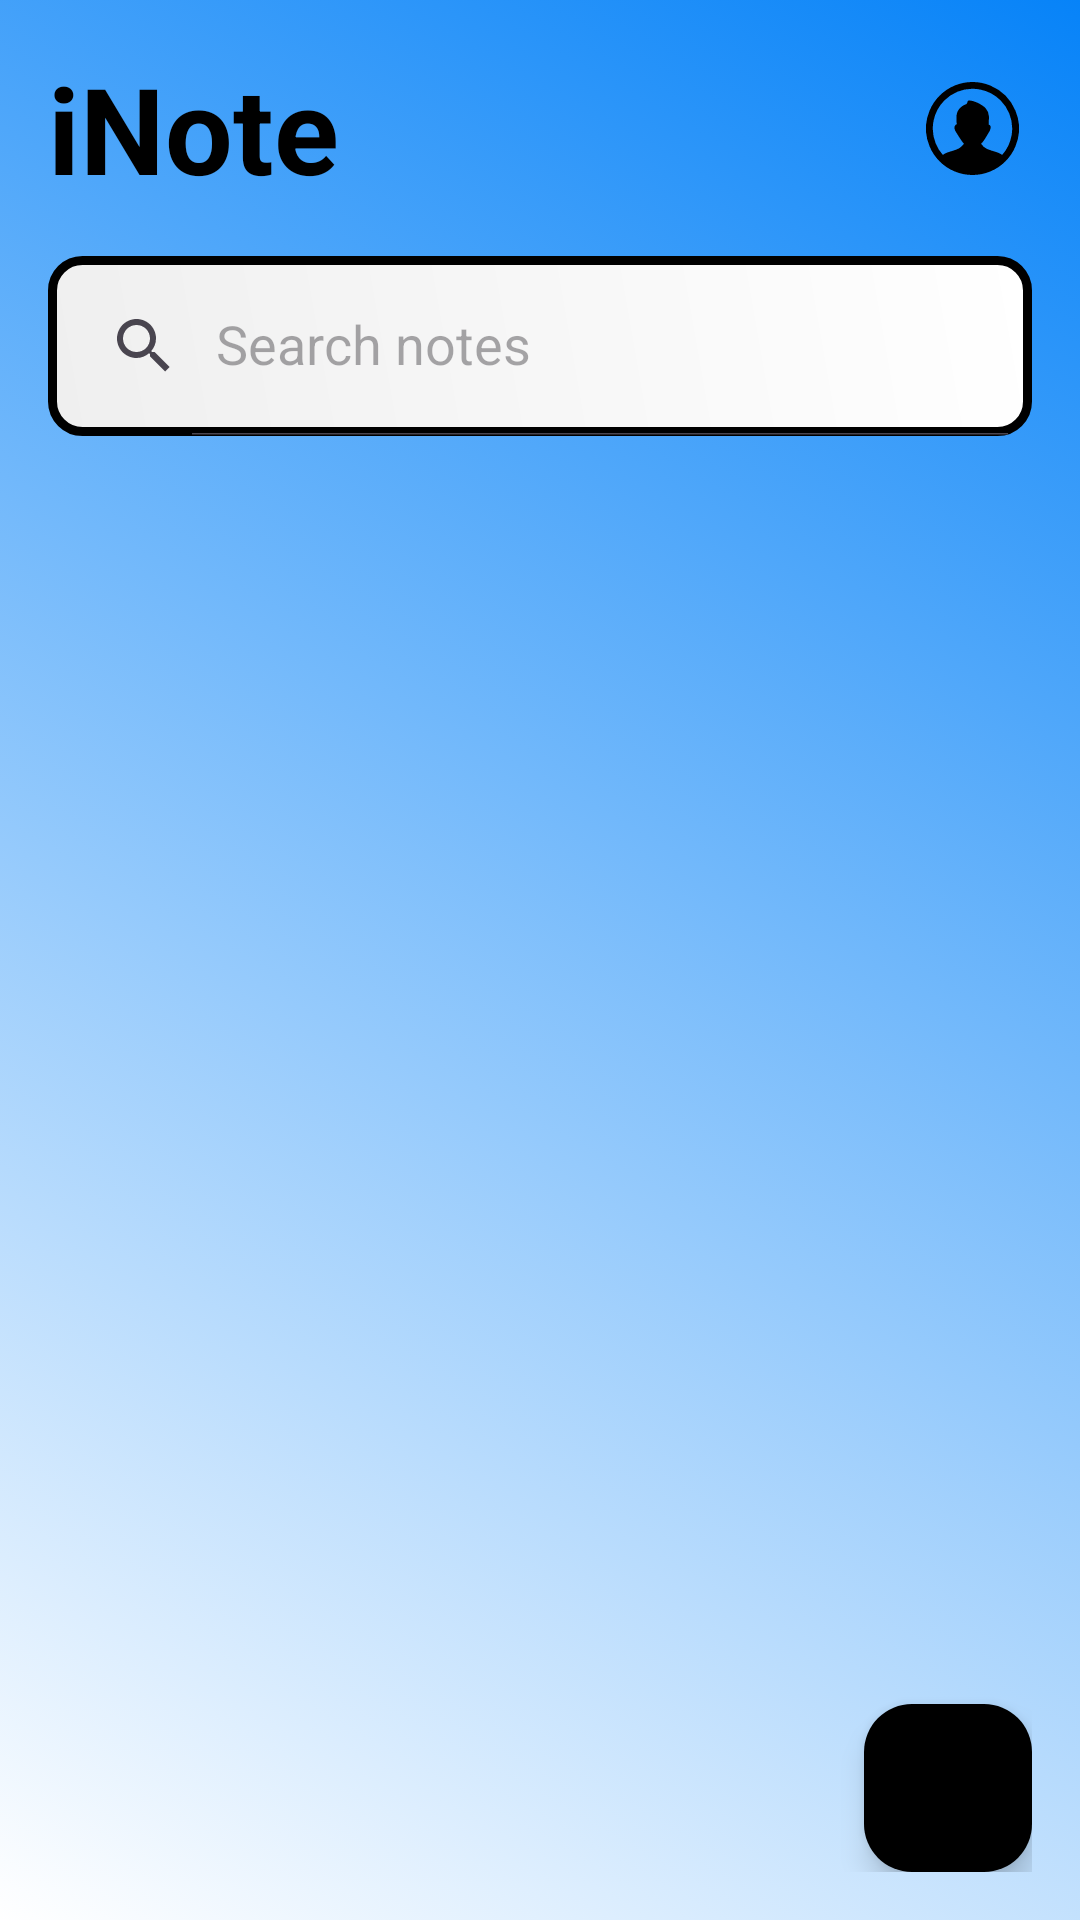

Locate icon controls on the screen. Image size 1080 x 1920, boxes as (x1, y1, x2, y2).
account: (926, 82, 1019, 175)
